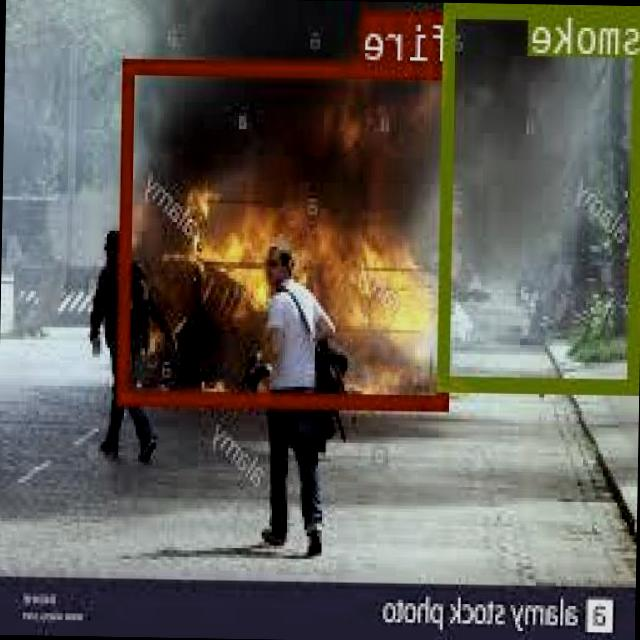fire: (120, 57, 455, 407)
smoke: (438, 2, 640, 388)
